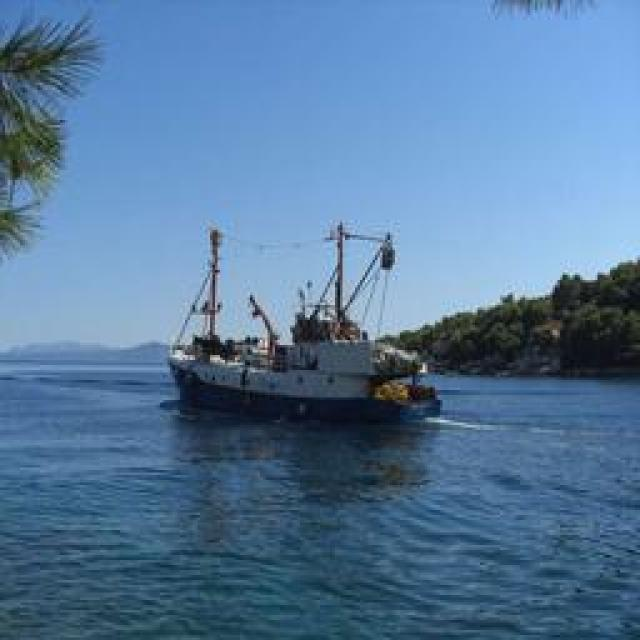Ship: (165, 215, 448, 430)
